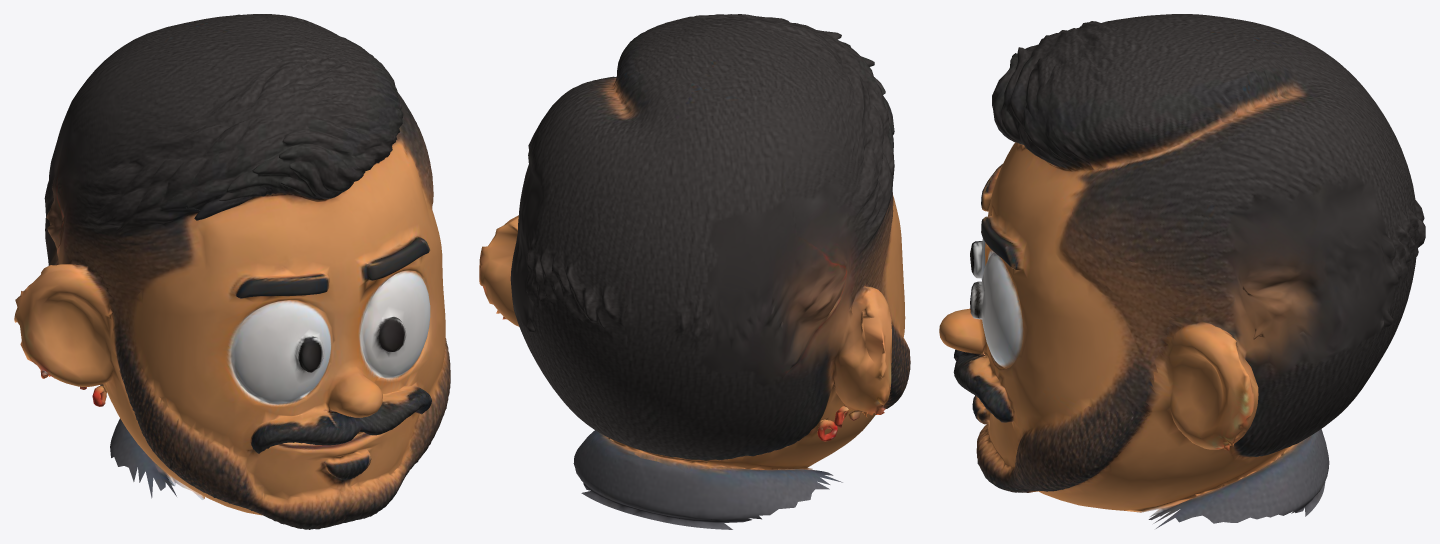
Rendered from diego-head.glb.
3 renders of one model, left to right at view 1: azimuth 30°, elevation 25°; view 2: azimuth 150°, elevation 25°; view 3: azimuth 270°, elevation 25°, orthographic. The views are drawn at different scales.
Parts seen in each view (by area): view 1: Face; view 2: Face; view 3: Face.
Boxes of the visible parts, bbox=[...] form: Face: bbox=[14, 14, 450, 529]; Face: bbox=[479, 14, 910, 529]; Face: bbox=[939, 14, 1425, 528].
Size of what is drawn, in the model's own units: 1.04 by 1.04 by 1.03.
Materials: 2 (1 with a texture image).
